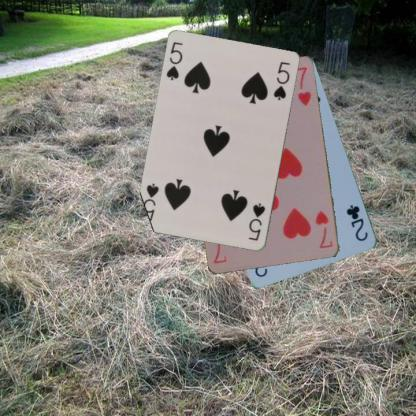2c: (344, 202, 370, 243)
5s: (246, 201, 267, 243), (164, 40, 184, 82)
7h: (312, 208, 334, 250)
